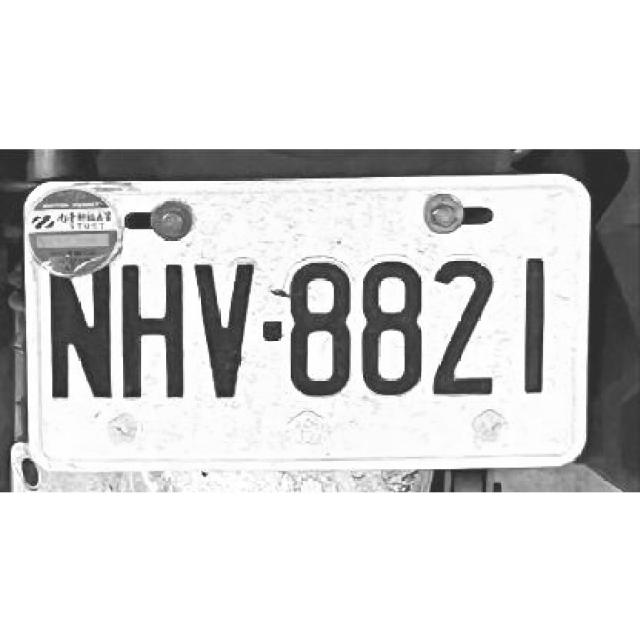-: (262, 320, 282, 342)
1: (522, 254, 543, 392)
2: (431, 254, 500, 398)
8: (283, 256, 351, 398), (357, 257, 421, 398)
H: (119, 262, 186, 398)
N: (48, 266, 114, 402)
V: (197, 260, 258, 394)
